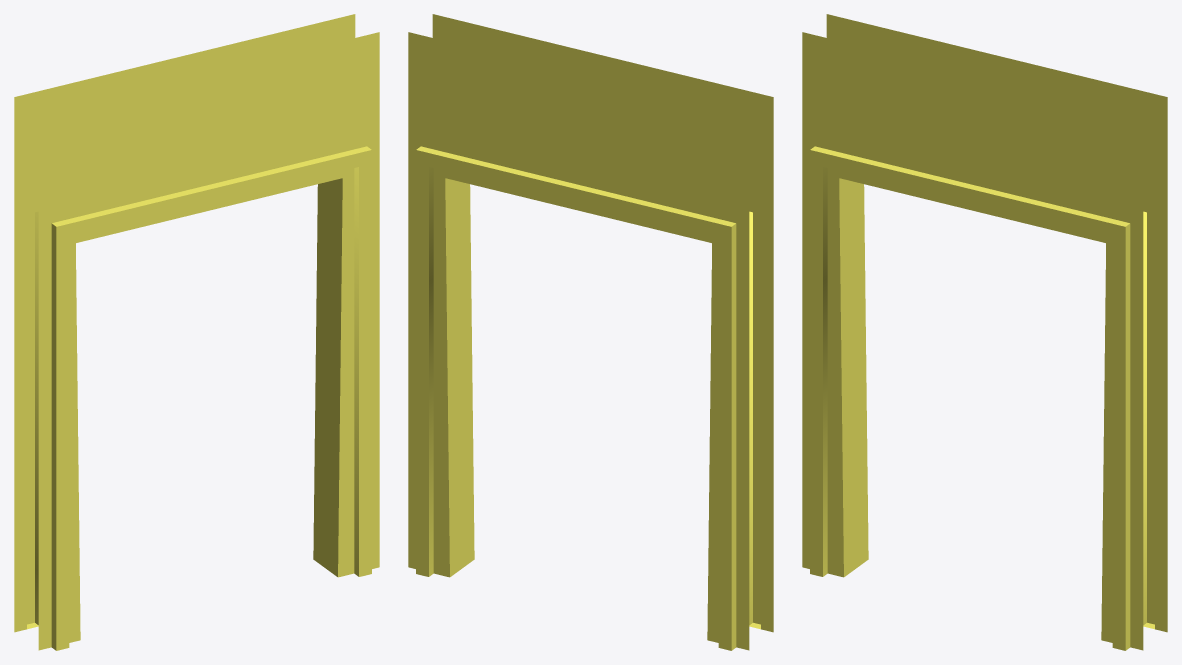
File: MD_Door_Double.fbx
The picture shows the model from 3 angles, left to right: view 1: azimuth 30°, elevation 25°; view 2: azimuth 150°, elevation 25°; view 3: azimuth 330°, elevation 25°; orthographic projection.
Visible parts, largest first — view 1: MD_Door_Double; view 2: MD_Door_Double; view 3: MD_Door_Double.
Boxes of the visible parts, x1,y1,x2,y2 form: MD_Door_Double: (14,14,379,650); MD_Door_Double: (408,14,773,650); MD_Door_Double: (802,14,1167,650).
Bounding box in the file's own units: 200 × 300 × 34.95.
